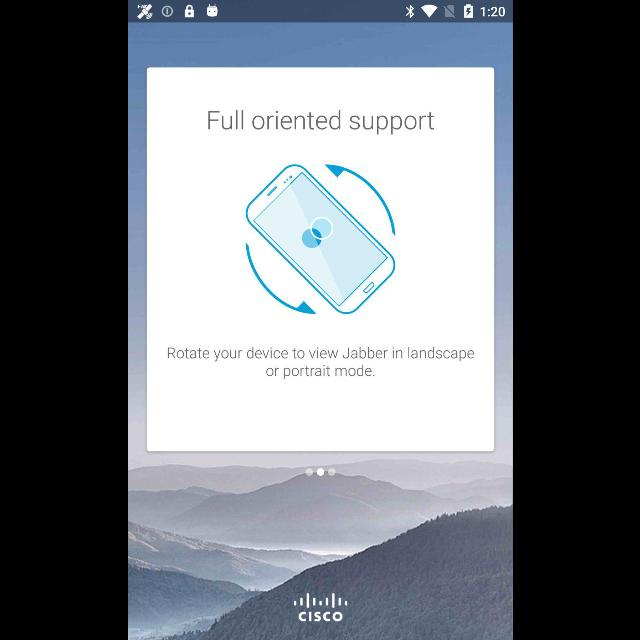backgroundimage: (128, 22, 512, 640)
image: (245, 164, 395, 314), (292, 592, 346, 622)
pageindicator: (304, 468, 336, 476)
panel: (146, 68, 494, 452)
text: (166, 347, 474, 379), (208, 110, 434, 136)
uppertaskbar: (128, 1, 512, 23)
